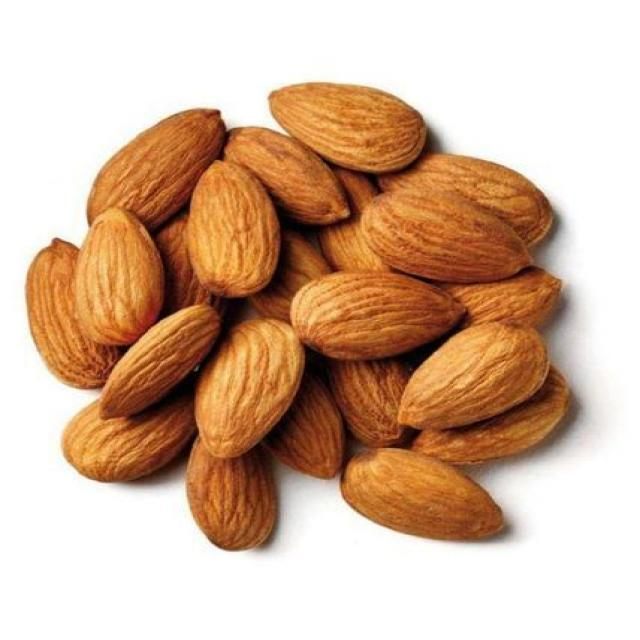almond: (84, 105, 229, 230), (395, 320, 548, 432), (335, 445, 507, 543), (290, 268, 468, 362), (190, 317, 305, 457), (94, 300, 224, 422), (359, 192, 534, 282), (262, 82, 433, 173), (222, 127, 362, 228), (402, 152, 557, 243), (68, 207, 165, 347), (27, 240, 118, 385), (190, 160, 277, 298)
